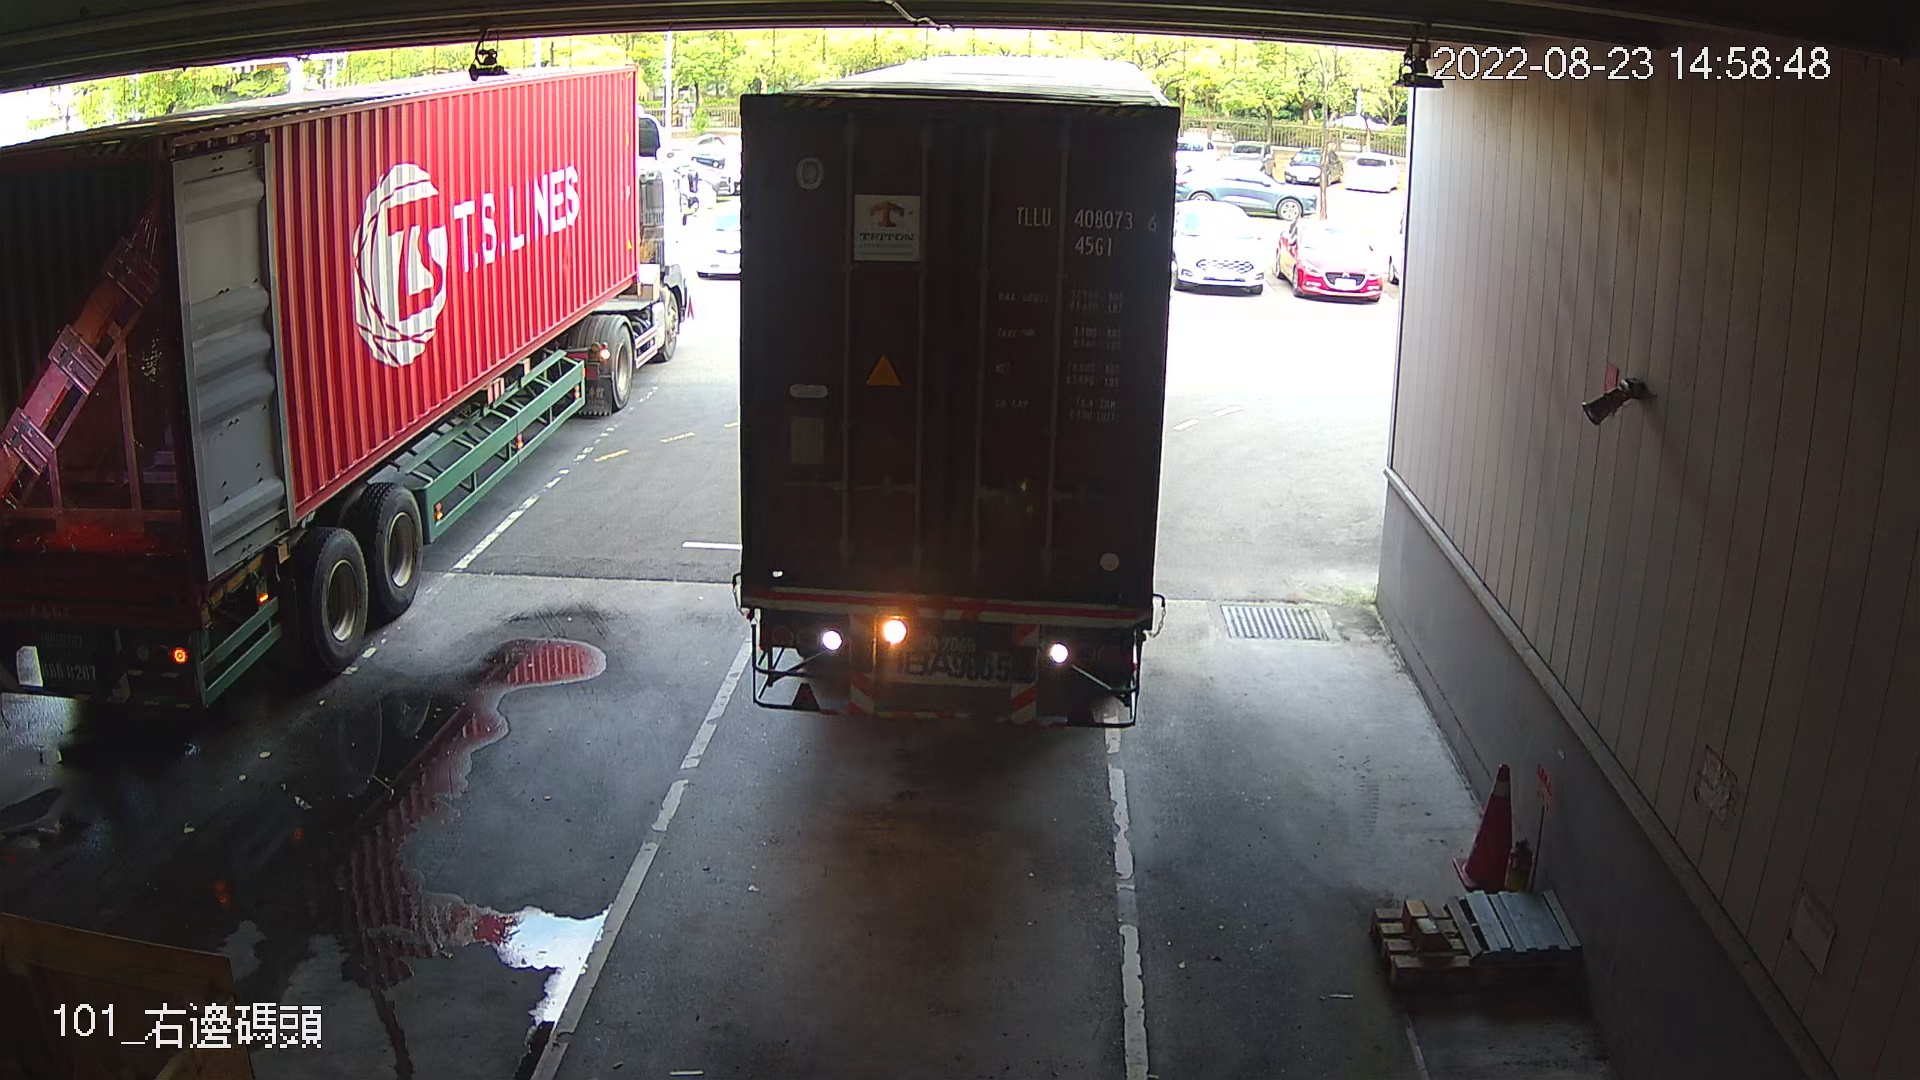container: (1004, 193, 1164, 266)
